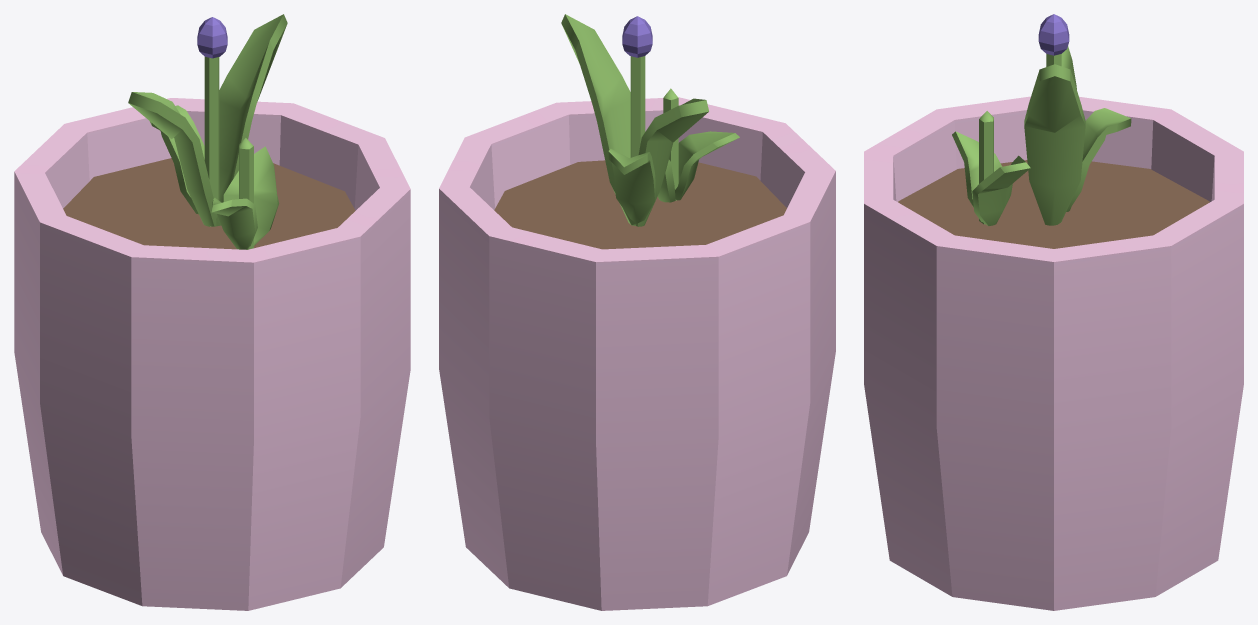
The model's file is plant05_03.gltf.
The picture shows the model from 3 angles, left to right: view 1: azimuth 30°, elevation 25°; view 2: azimuth 150°, elevation 25°; view 3: azimuth 270°, elevation 25°; orthographic projection.
Parts seen in each view (by area): view 1: plant05_stage01:pot, plant05_stage01:dirt, plant05_stage02:pCube1, plant05_stage02:pCube3, plant05_stage02:pCylinder1, plant05_stage03:pCube1, plant05_stage03:pCube3, pSphere1, plant05_stage03:pCylinder1, plant05_stage02:pCube2; view 2: plant05_stage01:pot, plant05_stage01:dirt, plant05_stage02:pCube1, plant05_stage02:pCube3, plant05_stage02:pCube2, plant05_stage03:pCube3, plant05_stage02:pCylinder1, pSphere1, plant05_stage03:pCylinder1; view 3: plant05_stage01:pot, plant05_stage01:dirt, plant05_stage02:pCube1, plant05_stage03:pCube1, plant05_stage02:pCube2, plant05_stage03:pCube3, pSphere1, plant05_stage03:pCylinder1.
Boxes of the visible parts, <box> form: plant05_stage01:pot: <box>14,98,410,610</box>; plant05_stage01:dirt: <box>63,158,355,249</box>; plant05_stage02:pCube1: <box>212,14,287,226</box>; plant05_stage02:pCube3: <box>128,92,217,226</box>; plant05_stage02:pCylinder1: <box>204,57,219,226</box>; plant05_stage03:pCube1: <box>223,146,279,248</box>; plant05_stage03:pCube3: <box>211,198,257,249</box>; pSphere1: <box>197,17,227,58</box>; plant05_stage03:pCylinder1: <box>239,138,253,249</box>; plant05_stage02:pCube2: <box>149,105,204,214</box>; plant05_stage01:pot: <box>439,97,835,610</box>; plant05_stage01:dirt: <box>494,160,786,249</box>; plant05_stage02:pCube1: <box>561,14,635,224</box>; plant05_stage02:pCube3: <box>635,98,708,226</box>; plant05_stage02:pCube2: <box>608,148,656,223</box>; plant05_stage03:pCube3: <box>675,131,739,200</box>; plant05_stage02:pCylinder1: <box>630,56,645,225</box>; pSphere1: <box>622,16,652,57</box>; plant05_stage03:pCylinder1: <box>663,88,678,200</box>; plant05_stage01:pot: <box>864,96,1243,610</box>; plant05_stage01:dirt: <box>898,160,1209,248</box>; plant05_stage02:pCube1: <box>1024,64,1085,225</box>; plant05_stage03:pCube1: <box>972,155,1030,226</box>; plant05_stage02:pCube2: <box>1066,108,1131,211</box>; plant05_stage03:pCube3: <box>952,131,1002,207</box>; pSphere1: <box>1038,14,1069,55</box>; plant05_stage03:pCylinder1: <box>979,111,993,224</box>.
Bounding box in the file's own units: 0.0179 × 0.0259 × 0.017.
1 material, 1 textured.
